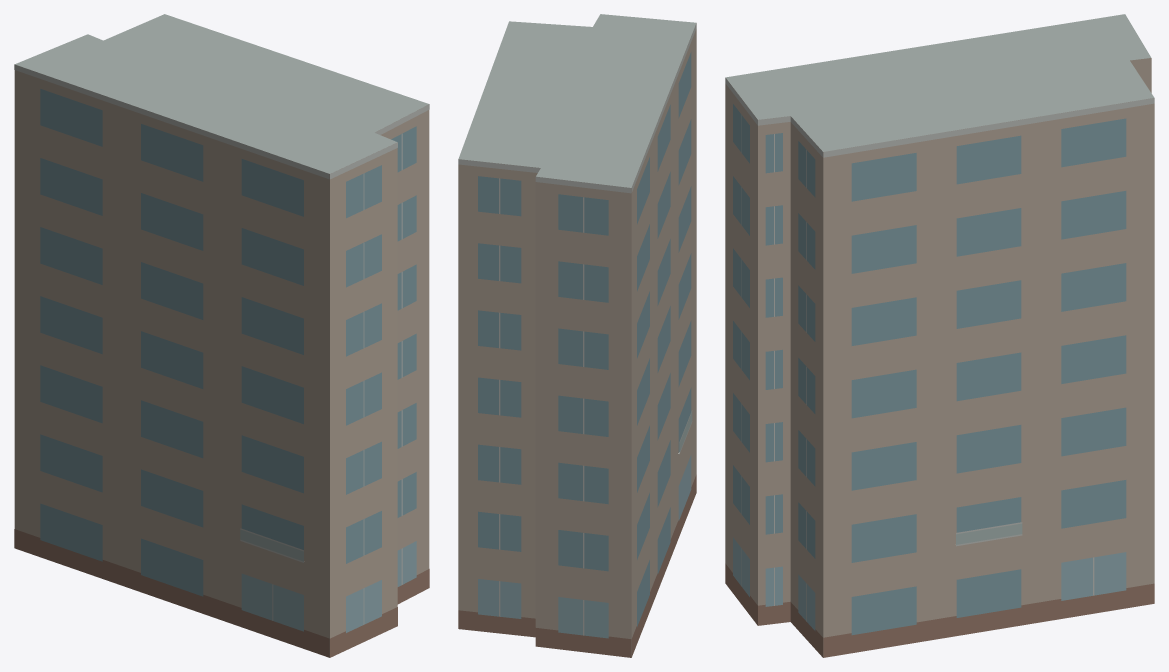
File: survey-upis-32526149.glb
The picture shows the model from 3 angles, left to right: view 1: azimuth 30°, elevation 25°; view 2: azimuth 150°, elevation 25°; view 3: azimuth 270°, elevation 25°; orthographic projection. The views are drawn at different scales.
Parts seen in each view (by area): view 1: survey-upis-32526149.tmp; view 2: survey-upis-32526149.tmp; view 3: survey-upis-32526149.tmp.
Boxes of the visible parts, x1,y1,x2,y2 form: survey-upis-32526149.tmp: (14,14,429,657); survey-upis-32526149.tmp: (458,14,696,657); survey-upis-32526149.tmp: (725,14,1154,657).
Bounding box in the file's own units: 12.5 × 21.35 × 16.43.
